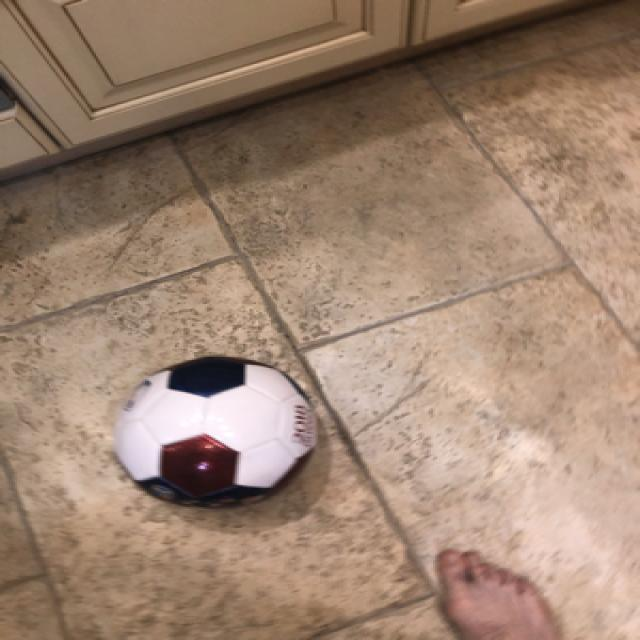soccer_ball: (109, 350, 318, 504)
